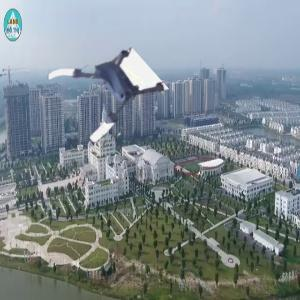drone: (52, 38, 152, 138)
